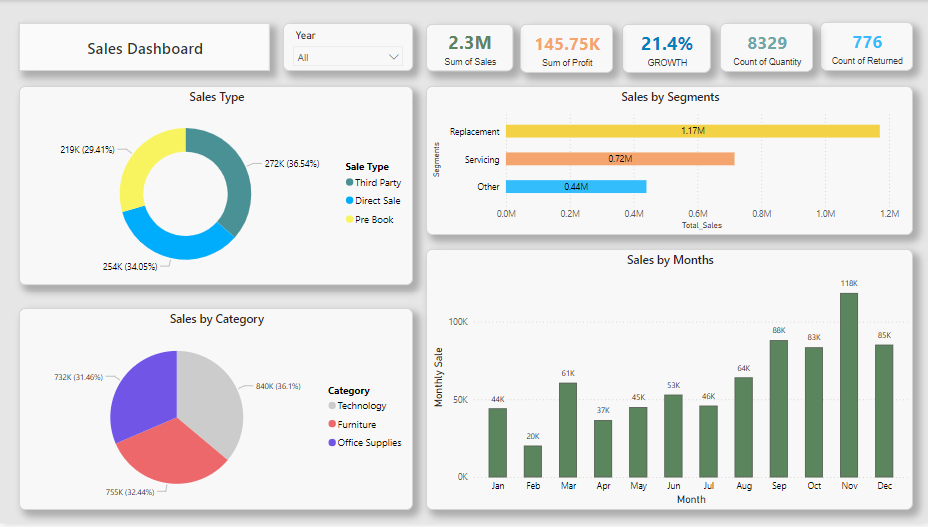

This screenshot's page, from the dashboard's own definition file:
{"tool":"powerbi","page":{"name":"Car 1","canvas":[1280,720],"ordinal":0},"visuals":[{"type":"donutChart","title":"Sales Type","fields":{"Y":["Orders.Current_year_sales"],"Category":["New_Category.New_Categ"]},"box":[26.2,118.4,542.3,273.9],"z":1000},{"type":"clusteredBarChart","title":"Sales by Segments","fields":{"Y":["Orders.Total_Sales"],"Category":["New_City.Seg"]},"box":[586.3,118.4,670.3,205.1],"z":2000},{"type":"clusteredColumnChart","title":"Sales by Months","fields":{"Y":["Orders.Current_year_sales"],"Category":["Orders.Month"]},"box":[586.3,342.7,670.3,359.2],"z":3000},{"type":"card","fields":{"Values":["Sum(Orders.Sales)"]},"box":[586.3,33,119.7,64.7],"z":5000},{"type":"card","fields":{"Values":["Orders.Sales_growth"]},"box":[856.1,33,122.5,67.4],"z":6000},{"type":"card","fields":{"Values":["CountNonNull(Returns.Returned)"]},"box":[1128.6,30.3,128,67.4],"z":7000},{"type":"shape","box":[26.2,31.7,345.5,66.1],"z":8000},{"type":"slicer","fields":{"Values":["Orders.Order Date.Variation.Date Hierarchy.Year"]},"box":[389.5,31.7,178.9,66.1],"z":10000},{"type":"card","fields":{"Values":["Sum(Orders.Profit)"]},"box":[715.7,33,128,67.4],"z":10001},{"type":"pieChart","title":"Sales by Category","fields":{"Y":["Sum(Orders.Sales)"],"Category":["Orders.Category"]},"box":[26.2,423.9,542.3,278],"z":10002},{"type":"card","fields":{"Values":["CountNonNull(Orders.Quantity)"]},"box":[991,31.7,128,67.4],"z":10003}]}

Visuals, with their boxes in screenshot pixels (x1, y1, x2, y2), scaled from the page's 1280x720 canvas onto the 928x527 screenshot:
"Sales Type" donutChart: 19:87:412:287
"Sales by Segments" clusteredBarChart: 425:87:911:237
"Sales by Months" clusteredColumnChart: 425:251:911:514
card - Sum(Orders.Sales): 425:24:512:72
card - Orders.Sales_growth: 621:24:709:73
card - CountNonNull(Returns.Returned): 818:22:911:72
shape: 19:23:269:72
slicer - Orders.Order Date.Variation.Date Hierarchy.Year: 282:23:412:72
card - Sum(Orders.Profit): 519:24:612:73
"Sales by Category" pieChart: 19:310:412:514
card - CountNonNull(Orders.Quantity): 718:23:811:73
